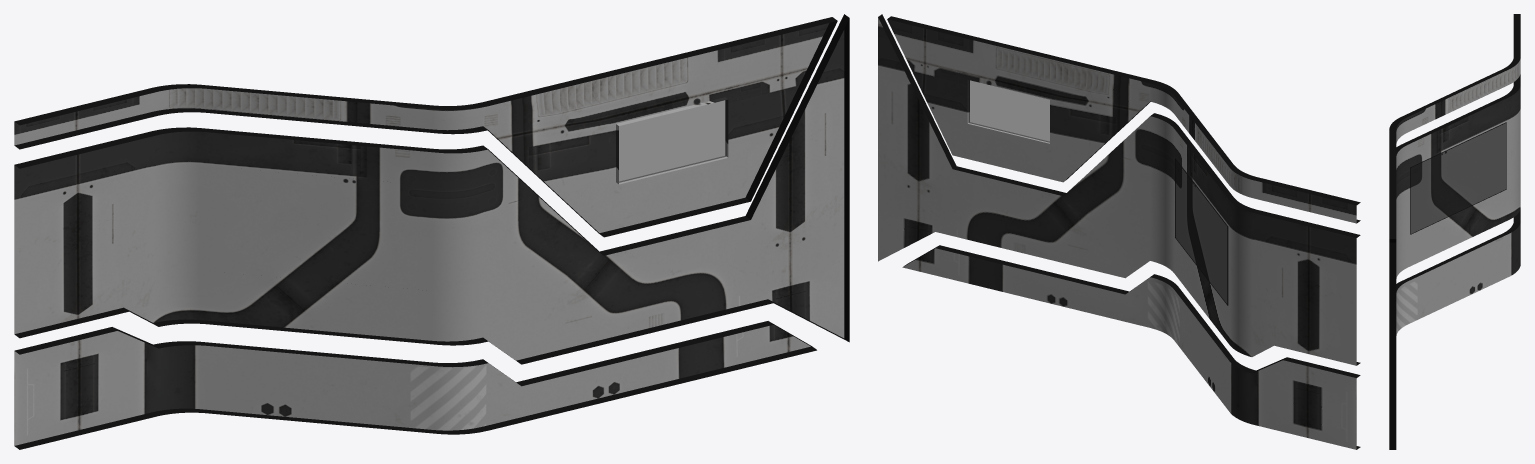
File: EC_DisplayWallPanel02.FBX
3 views of the same model, side by side, from view 1: azimuth 30°, elevation 25°; view 2: azimuth 150°, elevation 25°; view 3: azimuth 270°, elevation 25° (orthographic). The views are drawn at different scales.
Visible parts, largest first — view 1: EC_DisplayWallPanel02, EC_DisplayWallPanel02_Glass01; view 2: EC_DisplayWallPanel02, EC_DisplayWallPanel02_Glass02, EC_DisplayWallPanel02_Glass01; view 3: EC_DisplayWallPanel02, EC_DisplayWallPanel02_Glass02.
Boxes of the visible parts, x1,y1,x2,y2 form: EC_DisplayWallPanel02: [14, 14, 849, 449]; EC_DisplayWallPanel02_Glass01: [619, 100, 726, 182]; EC_DisplayWallPanel02: [878, 14, 1360, 449]; EC_DisplayWallPanel02_Glass02: [1175, 160, 1227, 303]; EC_DisplayWallPanel02_Glass01: [968, 80, 1049, 142]; EC_DisplayWallPanel02: [1389, 14, 1520, 449]; EC_DisplayWallPanel02_Glass02: [1411, 123, 1506, 233].
Bounding box in the file's own units: 9554 × 4043 × 2324.
3 materials, 1 textured.
